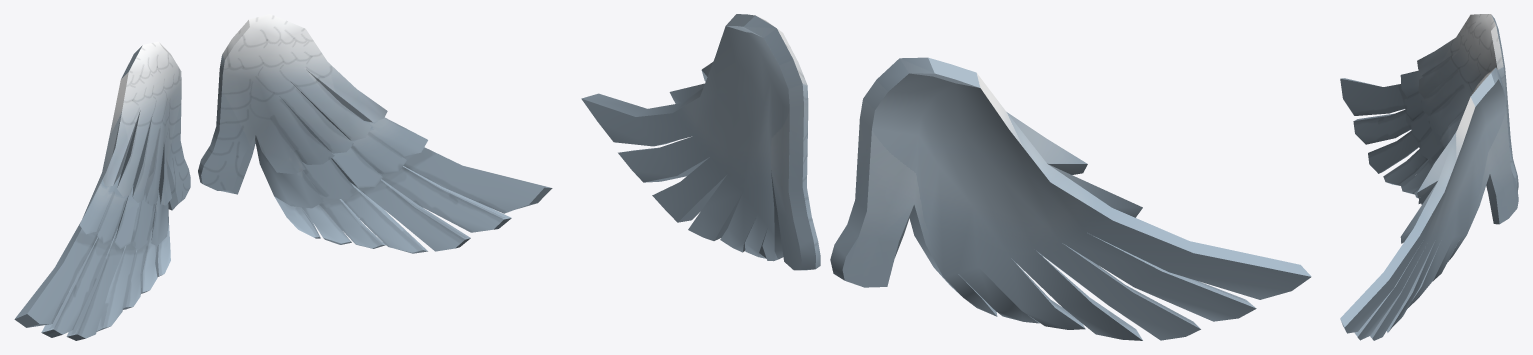
Rendered from Goodbyewing.fbx.
3 renders of one model, left to right at view 1: azimuth 30°, elevation 25°; view 2: azimuth 150°, elevation 25°; view 3: azimuth 270°, elevation 25°, orthographic. The views are drawn at different scales.
Visible parts, largest first — view 1: Cube; view 2: Cube; view 3: Cube.
Part boxes in pixels (x1=…): Cube: x1=14, y1=14, x2=552, y2=340; Cube: x1=581, y1=14, x2=1311, y2=340; Cube: x1=1340, y1=14, x2=1518, y2=340.
Size of the model in its own units: 374 by 149 by 113.
